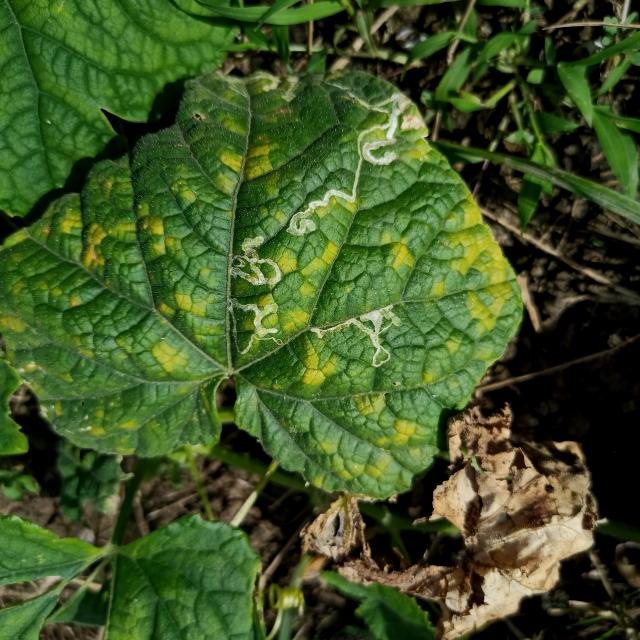disease_cucumber: (39, 87, 506, 480)
